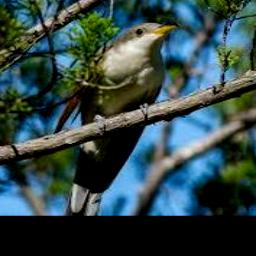Cuckoo: (52, 22, 179, 216)
